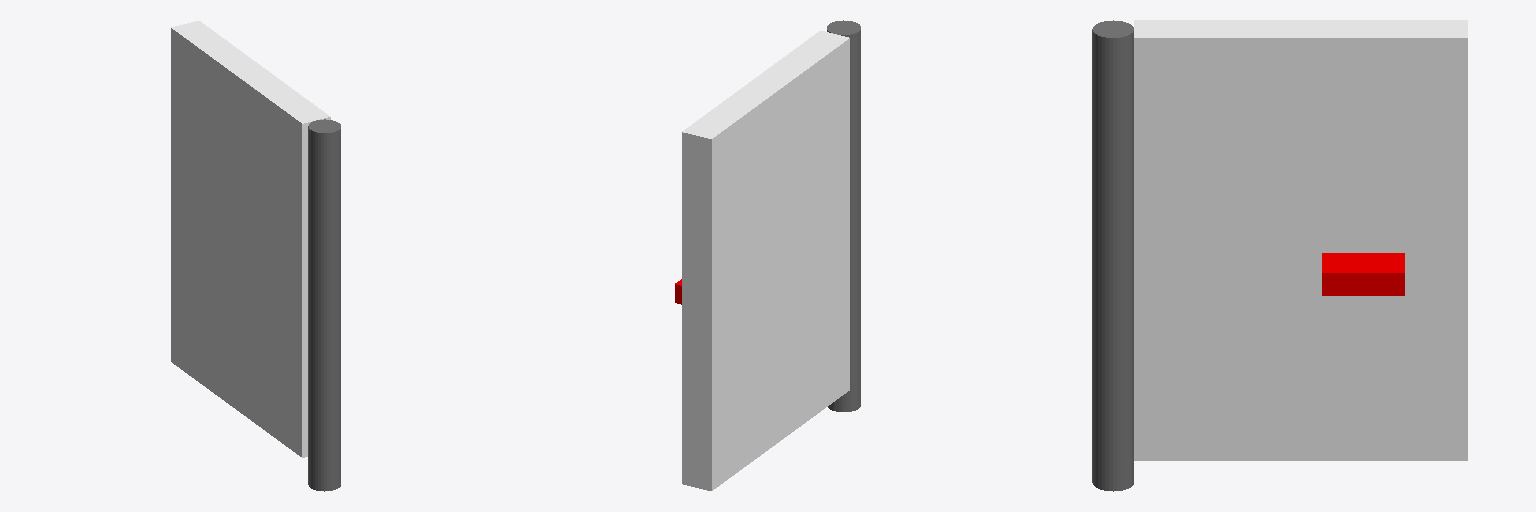
URDF robot description (door):
<?xml version="1.0"?>
<robot name="door">

  <link name="frame">
    <visual>
      <geometry>
        <cylinder length="0.6" radius="0.025"/>
      </geometry>
      <material name="gray"/>
    </visual>
    <collision>
      <geometry>
        <cylinder length="0.6" radius="0.025"/>
      </geometry>
    </collision>
    <inertial>
      <mass value="1"/>
      <inertia ixx="1" ixy="0.0" ixz="0.0" iyy="1" iyz="0.0" izz="1"/>
    </inertial>
  </link>

  <link name="door">
    <visual>
      <geometry>
        <box size="0.05 0.4 0.56"/>
      </geometry>
      <material name="white"/>
      <origin xyz="0 0.225 0.02"/>
    </visual>
    <collision>
      <geometry>
        <box size="0.05 0.4 0.56"/>
      </geometry>
      <origin xyz="0 0.225 0.02"/>
    </collision>
    <inertial>
      <mass value="0.1"/>
      <inertia ixx="0.001" ixy="0.0" ixz="0.0" iyy="0.001" iyz="0.0" izz="0.001"/>
    </inertial>
  </link>

  <link name="door_handle">
    <contact>
       <lateral_friction value="2.0"/>
       <spinning_friction value="0.01"/>
    </contact>
    <visual>
      <geometry>
        <box size="0.08 0.1 0.03"/>
      </geometry>
      <material name="red"/>
    </visual>
    <collision>
      <geometry>
        <box size="0.08 0.1 0.03"/>
      </geometry>
    </collision>
    <inertial>
      <mass value="0.1"/>
      <inertia ixx="0.001" ixy="0.0" ixz="0.0" iyy="0.001" iyz="0.0" izz="0.001"/>
    </inertial>
  </link>

  <joint name="hinge" type="revolute">
    <axis xyz="0 0 1"/>
    <limit effort="1000.0" lower="-1.5" upper="1.5" velocity="40"/>
    <parent link="frame"/>
    <child link="door"/>
    <dynamics damping="0.01" friction="0.01"/>
  </joint>

  <joint name="handle" type="fixed">
    <parent link="door"/>
    <child link="door_handle"/>
    <origin xyz="0.04 0.3 0"/>
  </joint>

  <material name="gray">
    <color rgba="0.5 0.5 0.5 1"/>
  </material>

  <material name="white">
    <color rgba="1 1 1 1"/>
  </material>

  <material name="red">
    <color rgba="1 0 0 1"/>
  </material>

</robot>

--- Facts derived from the render (not from the file) ---
3 views of the same robot in one strip: view 1: azimuth 30°, elevation 25°; view 2: azimuth 150°, elevation 25°; view 3: azimuth 270°, elevation 25° (orthographic).
Model door with 3 links and 2 joints (1 revolute, 1 fixed), rooted at frame, posed all joints at 0.
Links seen in each view (by area): view 1: door, frame; view 2: door, frame; view 3: door, frame, door_handle.
Boxes of the visible links, x1,y1,x2,y2 form: door: (171, 21, 330, 457); frame: (308, 119, 340, 491); door: (682, 31, 849, 490); frame: (827, 20, 860, 411); door: (1134, 20, 1467, 460); frame: (1092, 20, 1133, 491); door_handle: (1322, 253, 1404, 295).
Size in the robot's own frame: 0.105 by 0.45 by 0.6 metres.
Geometry: primitives only (box / cylinder / sphere), no mesh files.